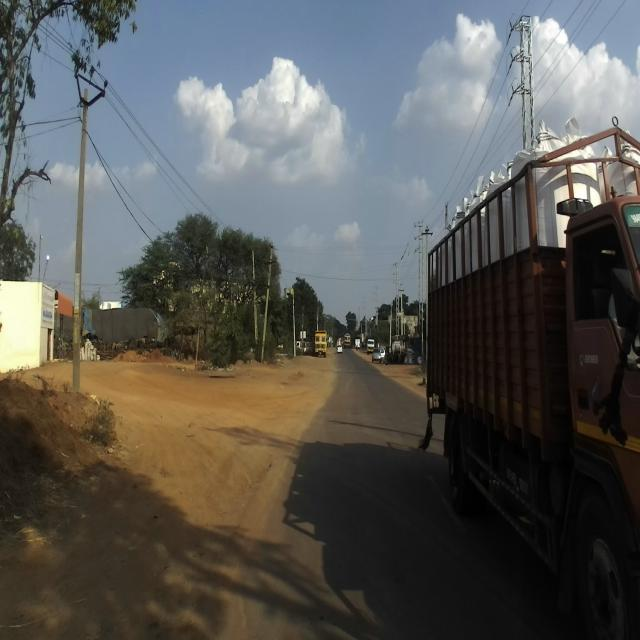truck: (417, 116, 640, 640)
